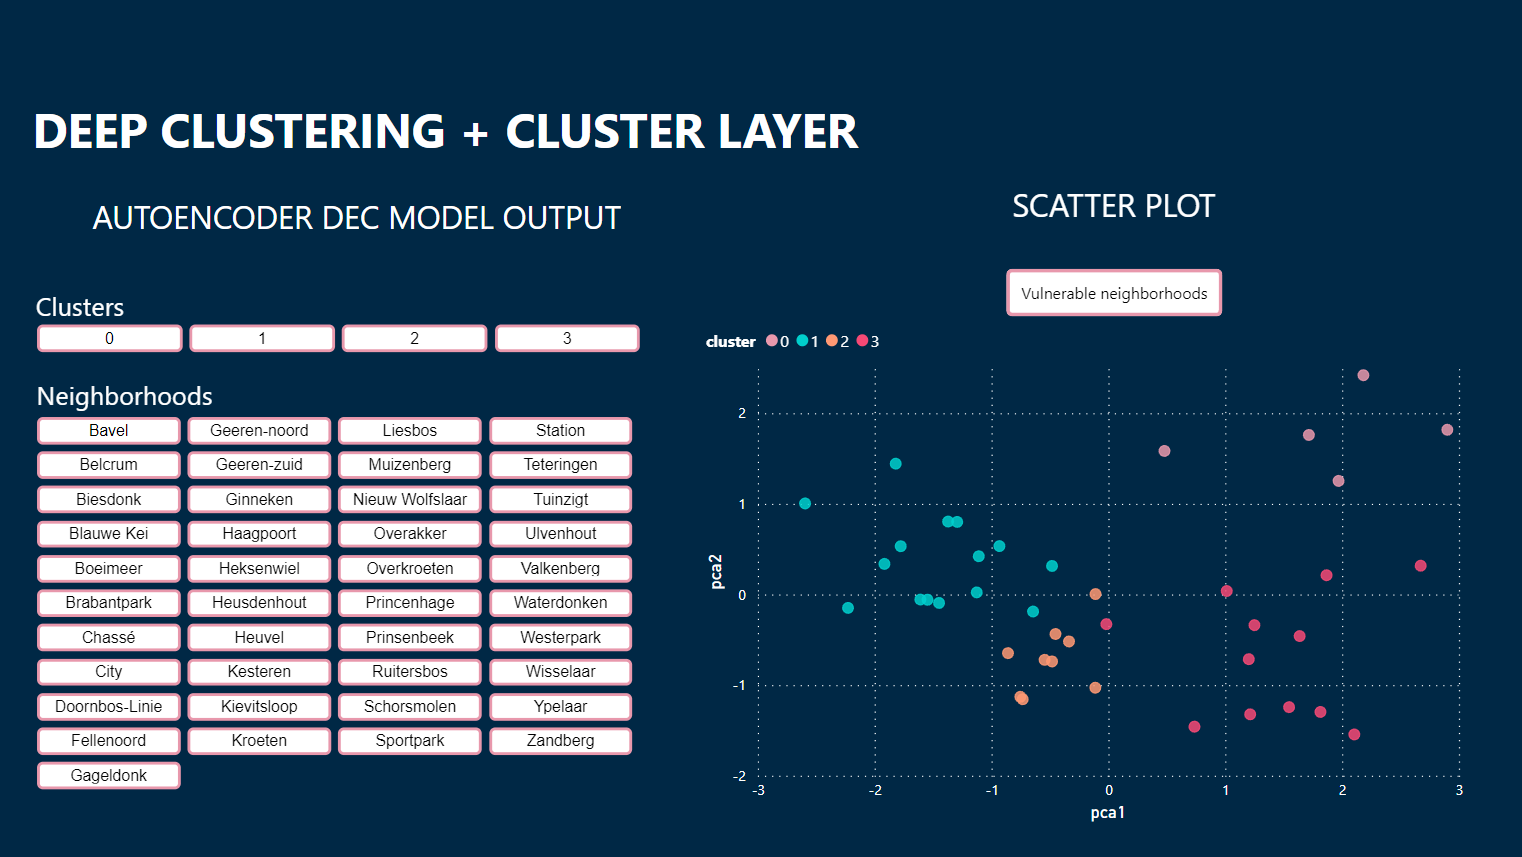

What the dashboard file says about the page in this screenshot:
{"tool":"powerbi","page":{"name":"Page 1","canvas":[1280,720],"ordinal":0},"visuals":[{"type":"ChicletSlicer1448559807354","fields":{"Category":["Sheet1.cluster"]},"box":[22.7,265.1,522.6,45.4],"z":0},{"type":"ChicletSlicer1448559807354","fields":{"Category":["Sheet1.neighborhood_name"]},"box":[22.9,342.5,516.2,346.1],"z":1000},{"type":"scatterChart","title":"Clustering the neighborhoods","fields":{"X":["Sheet1.pca1"],"Y":["Sheet1.pca2"],"Series":["Sheet1.cluster"]},"box":[588,265.4,646.9,430.1],"z":2000},{"type":"actionButton","title":"go back","box":[845.5,226.1,181.8,39.9],"z":5000},{"type":"textbox","box":[22.3,76.5,731.8,72.3],"z":6000},{"type":"textbox","box":[0,237.7,134.5,50],"z":7000},{"type":"textbox","box":[845.9,148.9,189.2,50.1],"z":8000},{"type":"textbox","box":[72.6,158.9,679,50.1],"z":9000},{"type":"textbox","box":[2.8,311.7,203.1,50.1],"z":10000}]}

Visuals, with their boxes in screenshot pixels (x1, y1, x2, y2), scaled from the page's 1280x720 canvas onto the 1522x857 screenshot:
ChicletSlicer1448559807354 - Sheet1.cluster: (27,316,648,370)
ChicletSlicer1448559807354 - Sheet1.neighborhood_name: (27,408,641,820)
"Clustering the neighborhoods" scatterChart: (699,316,1468,828)
"go back" actionButton: (1005,269,1222,317)
textbox: (27,91,897,177)
textbox: (0,283,160,342)
textbox: (1006,177,1231,237)
textbox: (86,189,894,249)
textbox: (3,371,245,431)
